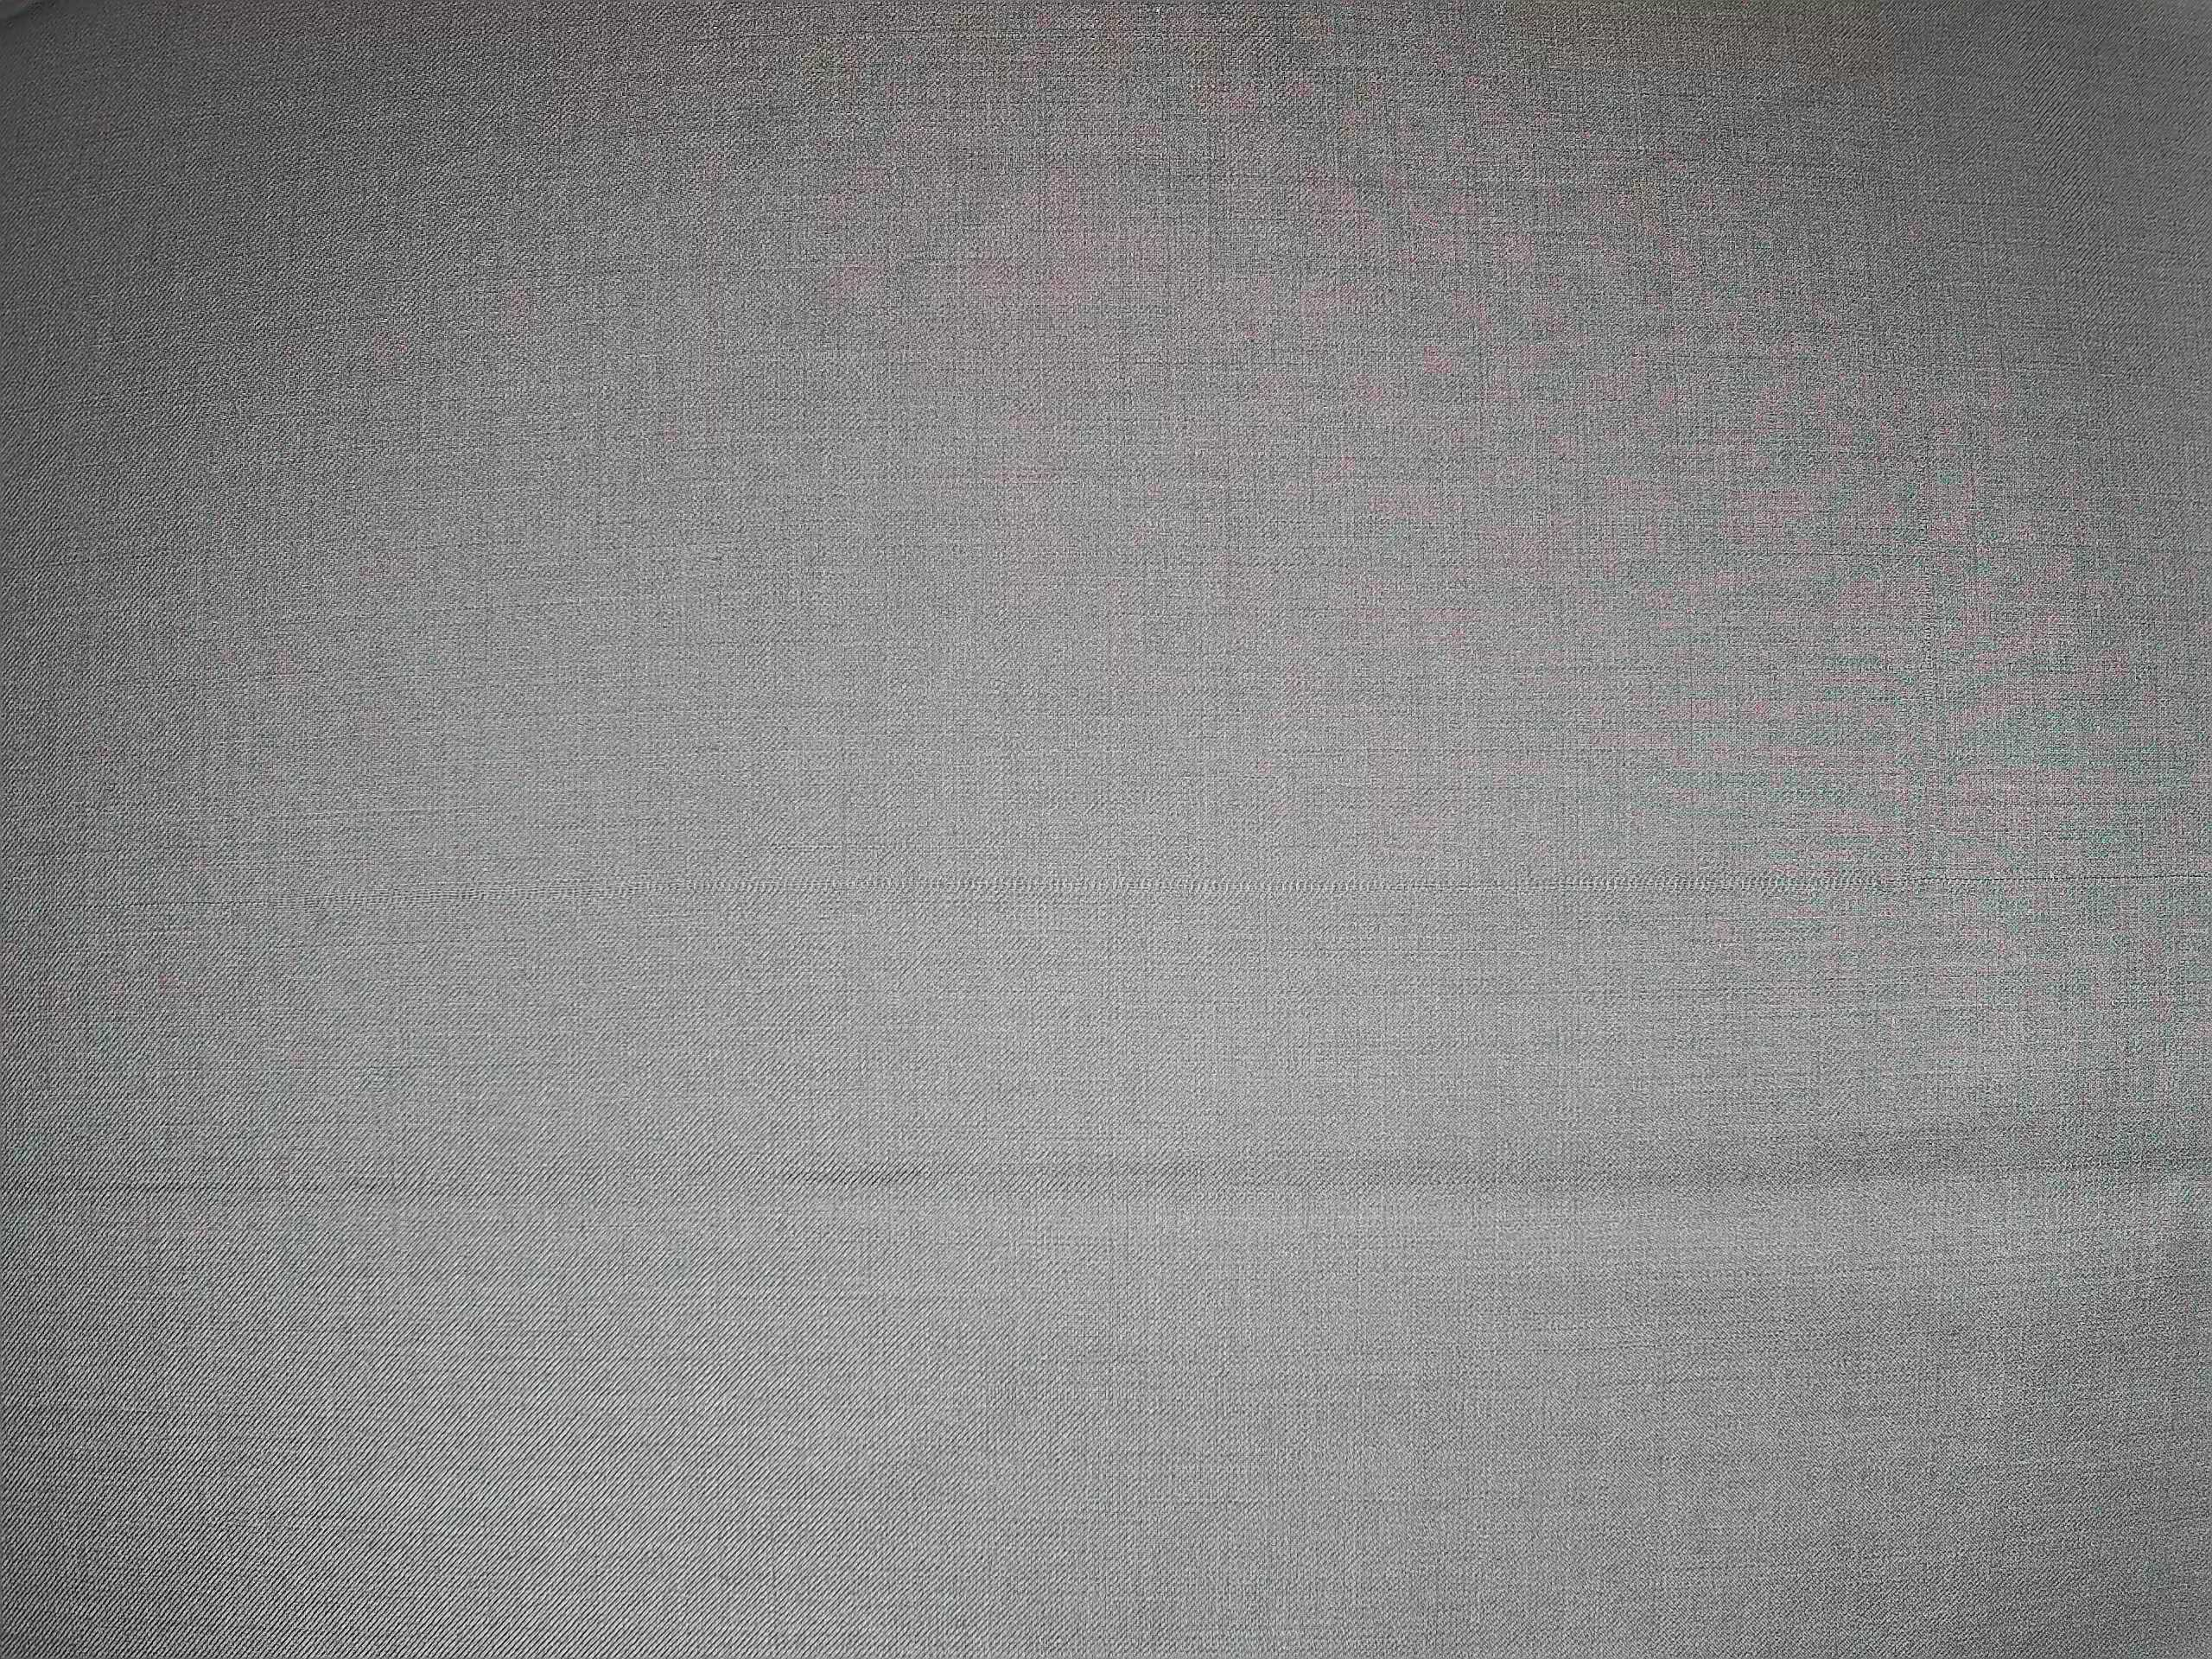thin-spinning: (115, 859, 2212, 922)
